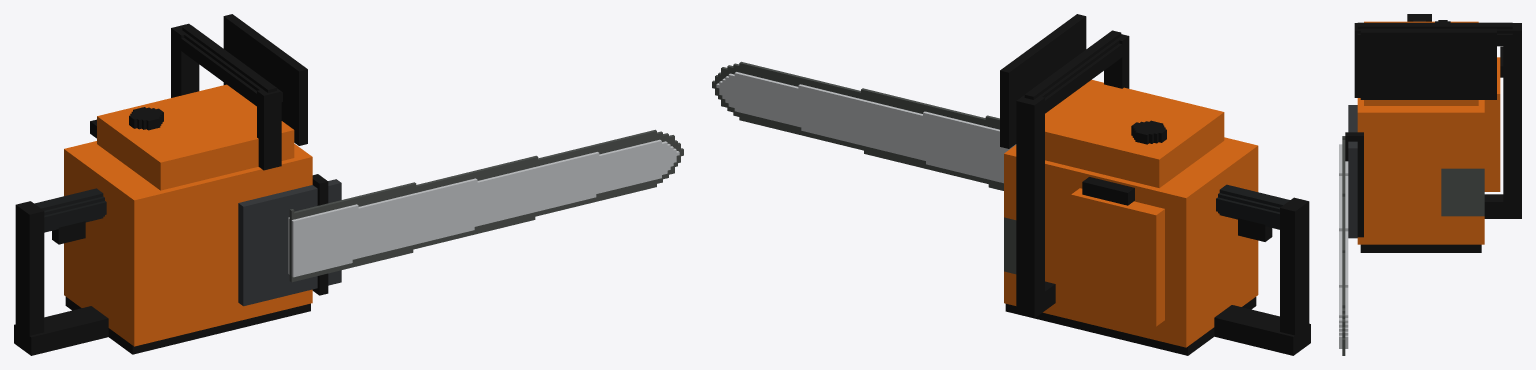
The model's file is chainsaw_off.glb.
3 renders of one model, left to right at view 1: azimuth 30°, elevation 25°; view 2: azimuth 150°, elevation 25°; view 3: azimuth 270°, elevation 25°, orthographic. The views are drawn at different scales.
Visible parts, largest first — view 1: chainsaw_off:compound; view 2: chainsaw_off:compound; view 3: chainsaw_off:compound.
Part boxes in pixels (x1=…): chainsaw_off:compound: x1=14, y1=14, x2=683, y2=355; chainsaw_off:compound: x1=712, y1=14, x2=1310, y2=355; chainsaw_off:compound: x1=1339, y1=14, x2=1521, y2=355.
Size of the model in its own units: 0.832 by 0.312 by 0.236.
